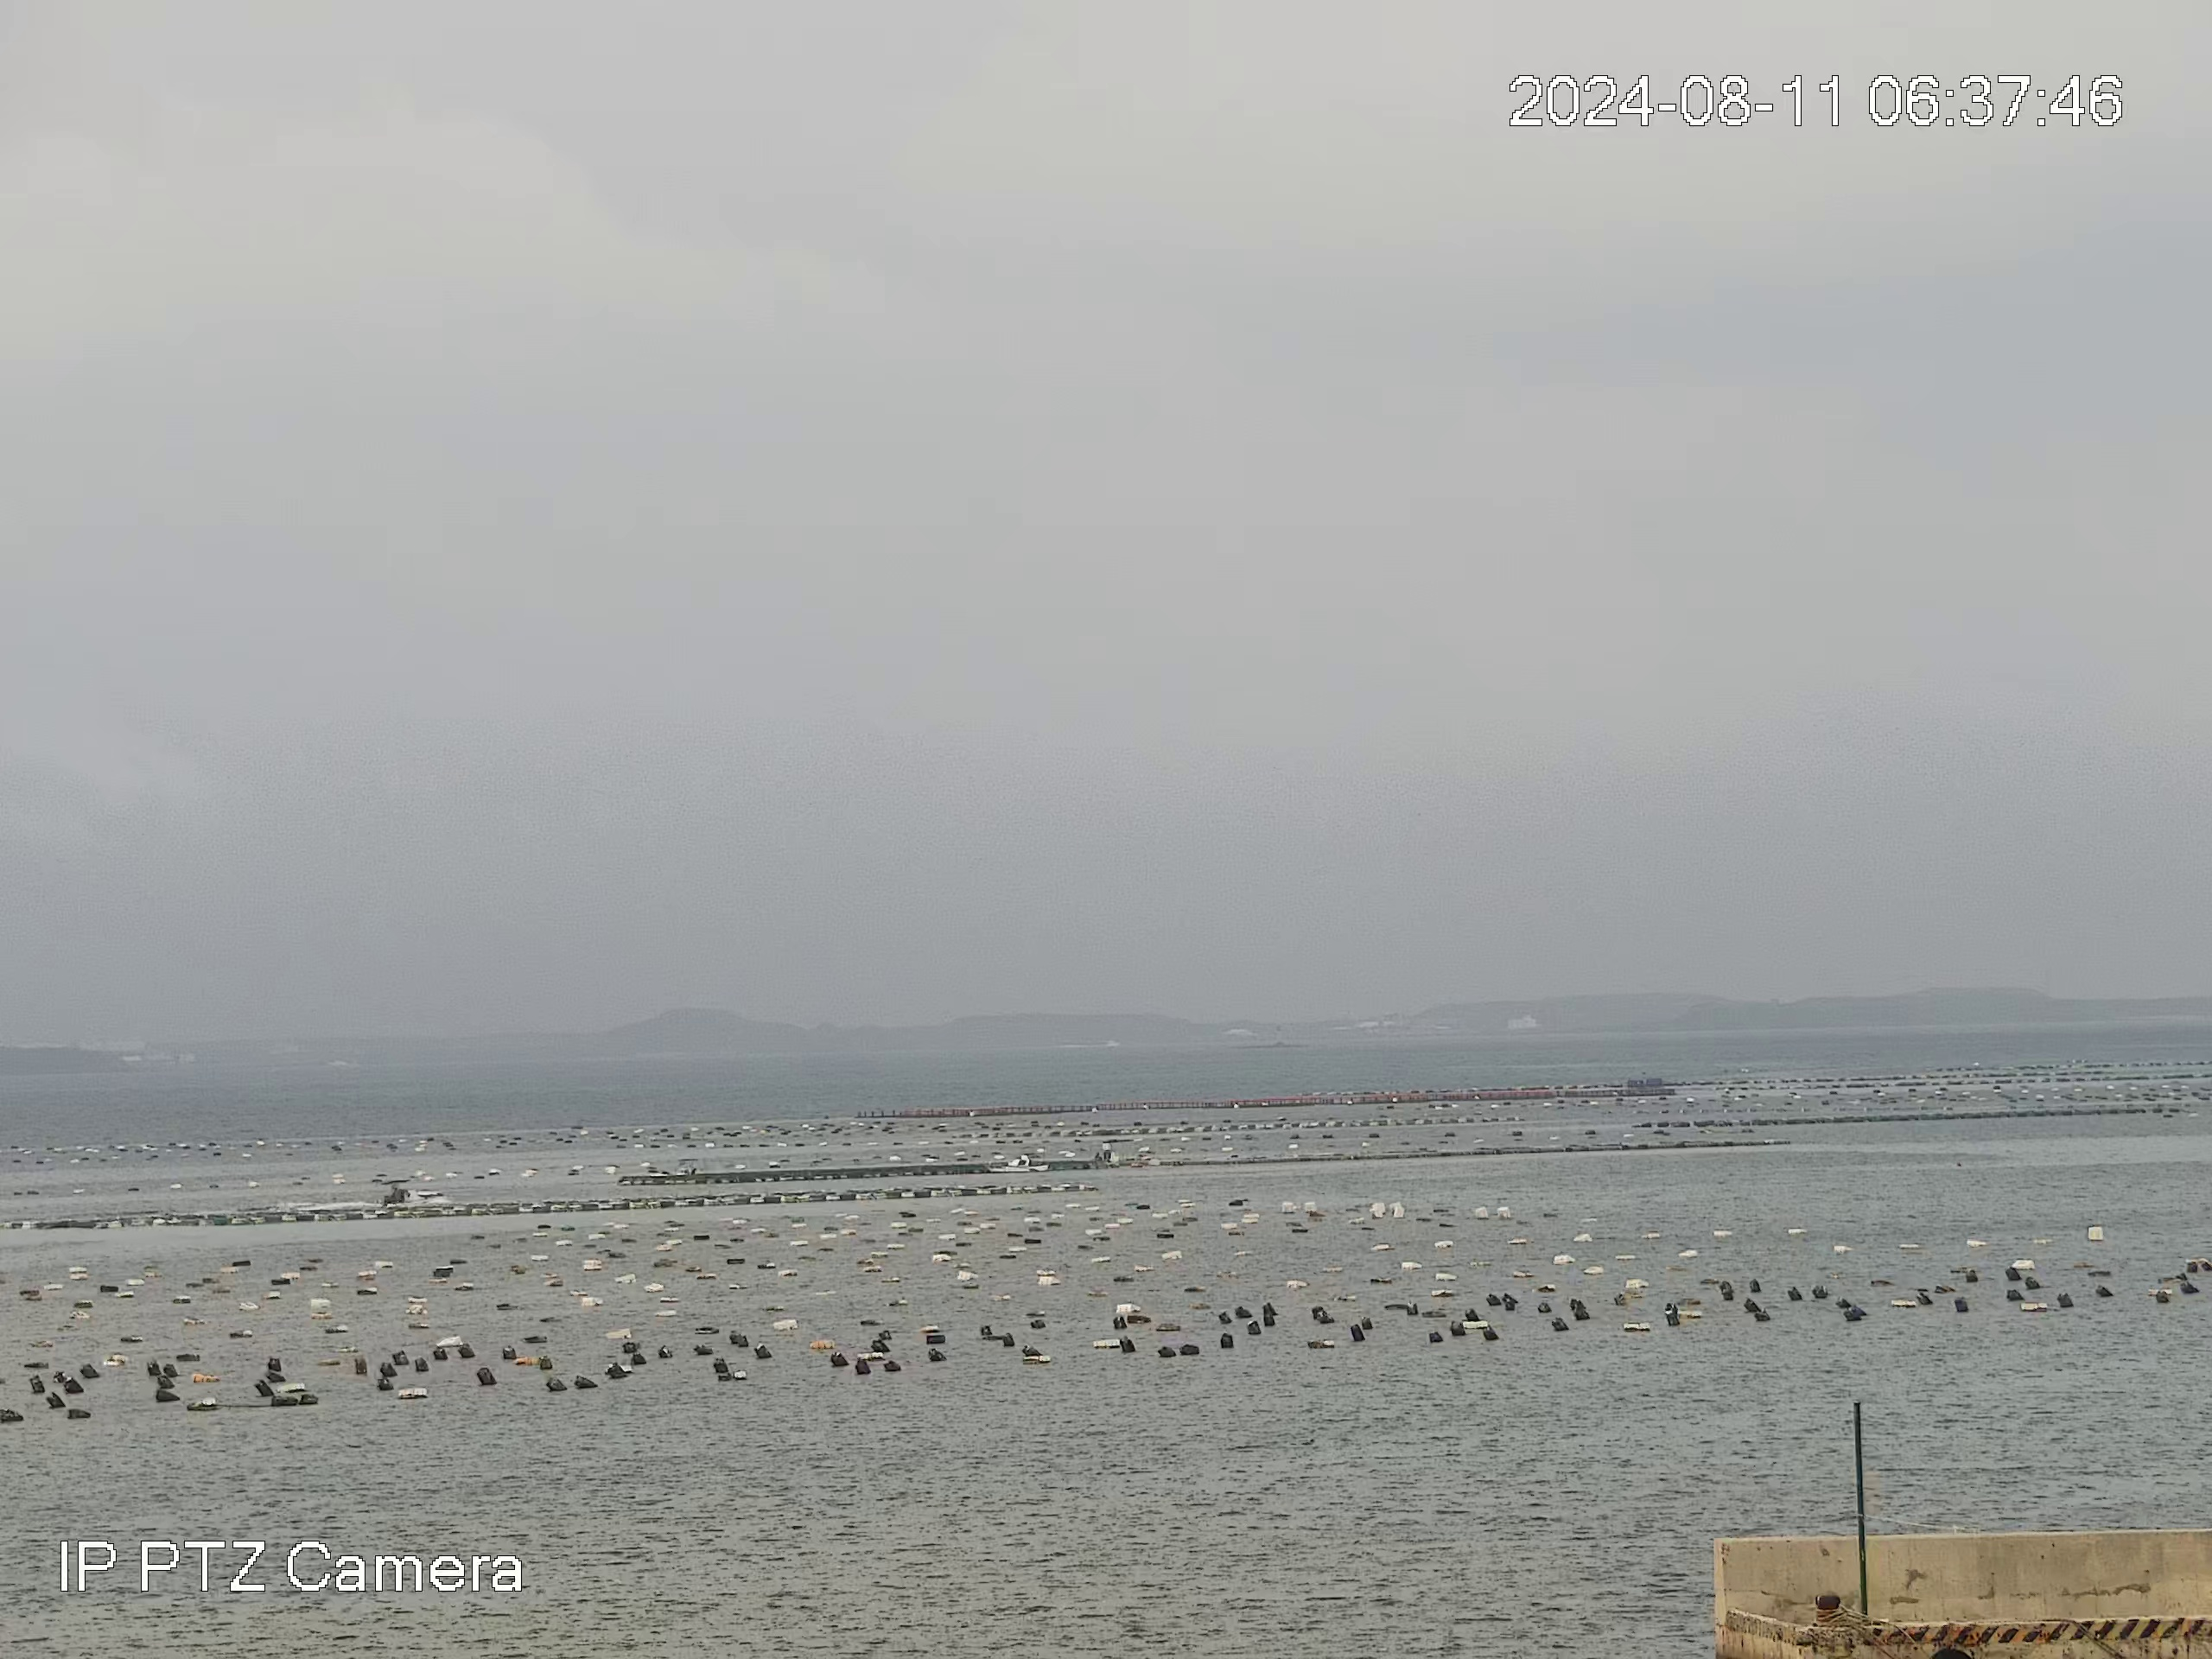boat: (378, 1175, 453, 1209), (982, 1152, 1052, 1175)
